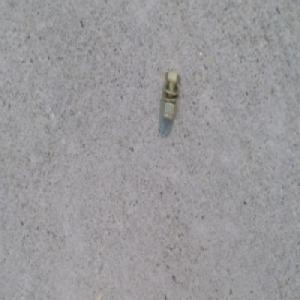BoltNutSet: (158, 72, 181, 122)
